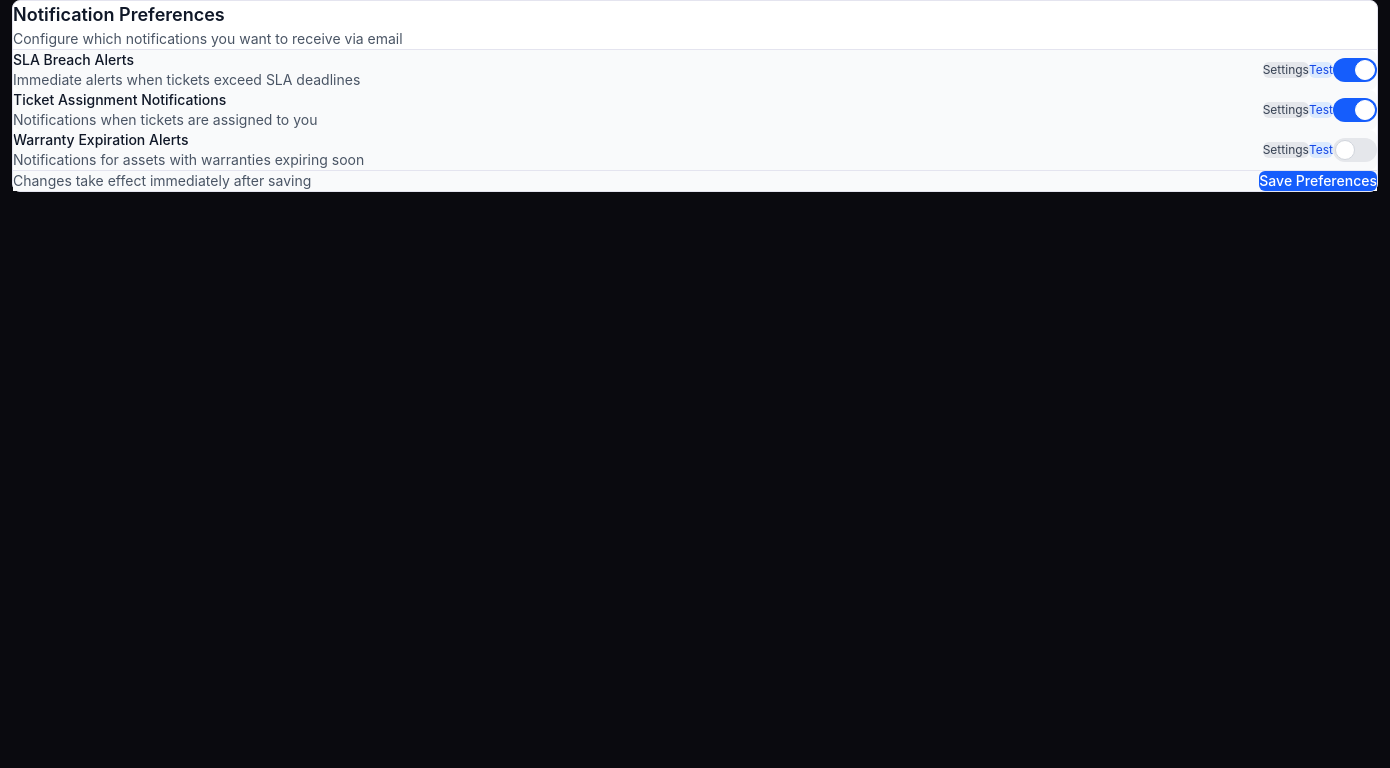
it: NotificationPreferences › shows assignment filter for ticket notifications
This screenshot has width=1390, height=768.
# Expand ticket assigned settings
Click the button "Settings" in the row of "Ticket Assignment Notifications": (1286, 110) [1263,102,1309,118]
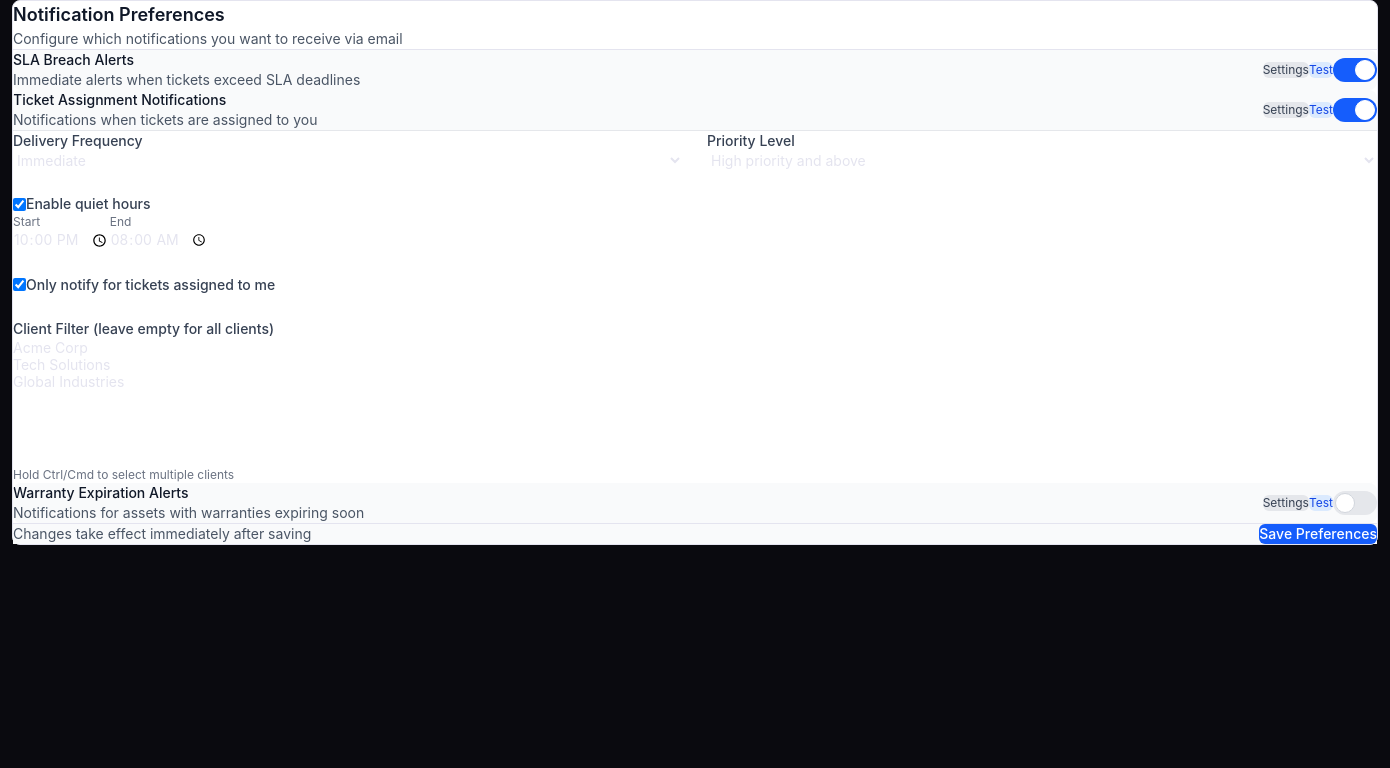
Check: the checkbox labelled "Only notify for tickets assigned to me" is checked, box [13,278,26,291]
